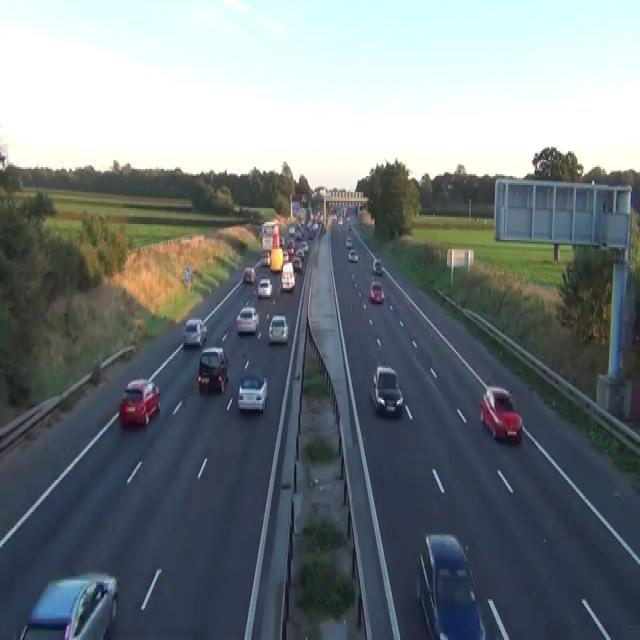Car: (417, 532, 485, 638), (18, 571, 118, 638), (479, 386, 522, 442), (118, 377, 160, 427), (371, 364, 403, 416), (198, 345, 229, 393), (237, 372, 267, 412), (182, 318, 207, 347), (235, 306, 258, 334), (268, 315, 288, 343), (280, 261, 295, 290), (369, 281, 385, 304), (257, 277, 272, 299), (261, 220, 278, 234), (243, 266, 256, 282), (372, 258, 382, 274), (260, 250, 270, 266), (286, 238, 294, 256), (348, 249, 358, 263), (292, 256, 302, 270), (295, 247, 304, 260), (300, 240, 308, 252), (300, 194, 307, 206), (282, 251, 289, 263), (345, 237, 353, 247), (295, 231, 302, 240), (279, 235, 284, 247), (288, 226, 295, 234), (338, 217, 343, 226), (321, 224, 326, 233), (446, 182, 453, 188), (348, 224, 351, 231), (334, 213, 337, 220), (346, 215, 349, 221)
Truck: (260, 218, 282, 268)
